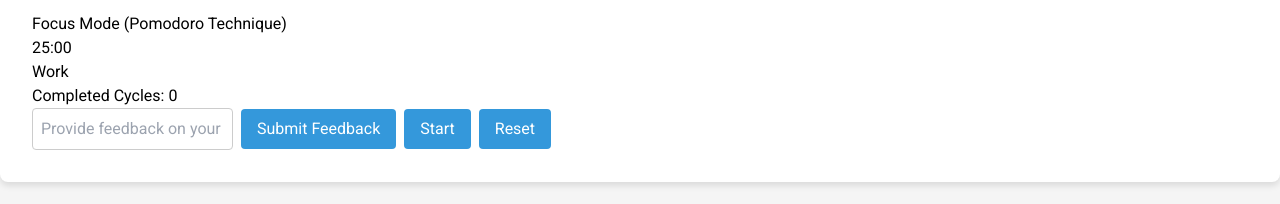
Test case: FocusMode › resets timer
Click the button "Start": (438, 129) [404,109,471,149]
Wait 5000 ms
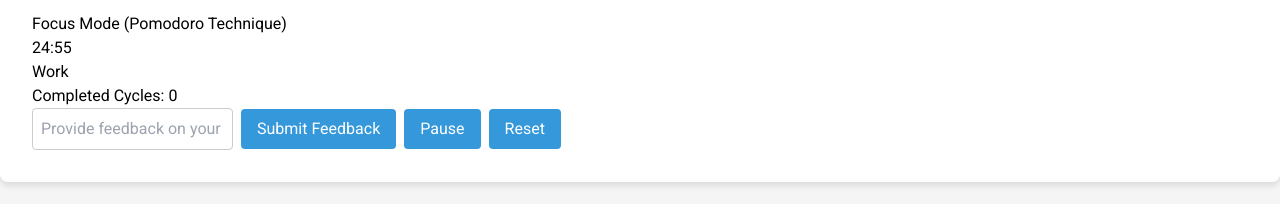
Click the button "Reset": (525, 129) [489,109,561,149]
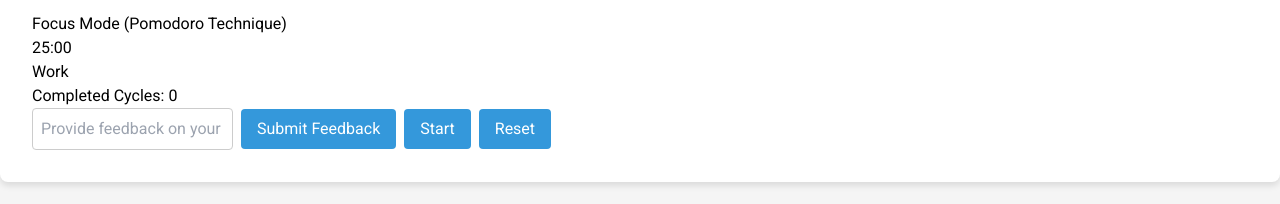
Check: the text "25:00" is shown, box [32,38,72,57]
Check: the button "Start" is shown, box [404,109,471,149]
